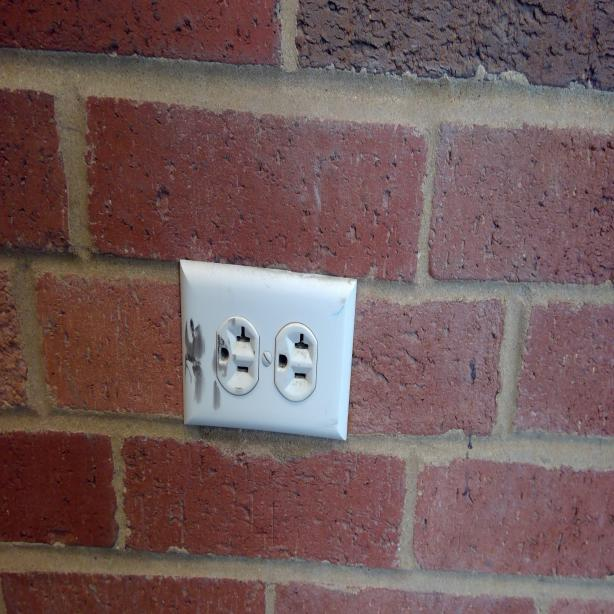typeb: (215, 317, 263, 398), (271, 327, 315, 397)
